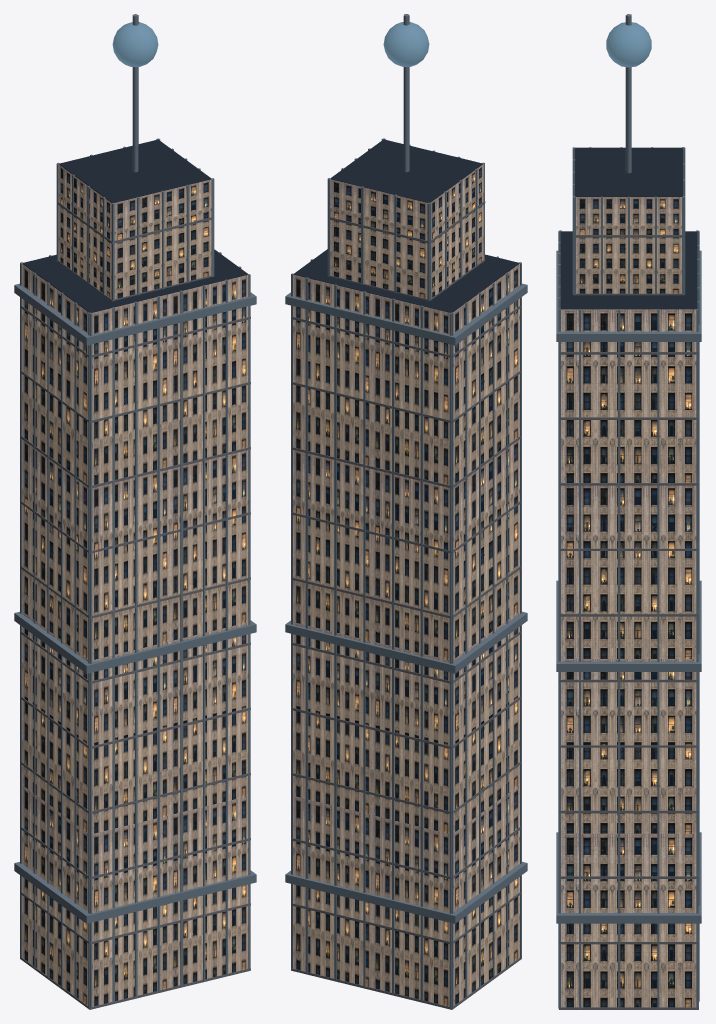
File: one-times-square.glb
3 renders of one model, left to right at view 1: azimuth 30°, elevation 25°; view 2: azimuth 150°, elevation 25°; view 3: azimuth 270°, elevation 25°, orthographic.
Visible parts, largest first — view 1: Facade_atlas_1, Brushed aluminum, Limestone, Roof membrane and mechanical equipment, Cool occupied interiors; view 2: Facade_atlas_1, Brushed aluminum, Limestone, Roof membrane and mechanical equipment, Cool occupied interiors; view 3: Facade_atlas_1, Brushed aluminum, Roof membrane and mechanical equipment, Limestone, Cool occupied interiors.
Part boxes in pixels (x1,y1,x2,y2): Facade_atlas_1: (22, 164, 248, 1006); Brushed aluminum: (14, 14, 256, 1008); Limestone: (20, 202, 250, 1009); Roof membrane and mechanical equipment: (23, 139, 247, 312); Cool occupied interiors: (112, 22, 158, 66); Facade_atlas_1: (293, 164, 519, 1006); Brushed aluminum: (285, 14, 527, 1008); Limestone: (291, 201, 521, 1009); Roof membrane and mechanical equipment: (293, 139, 518, 312); Cool occupied interiors: (383, 22, 429, 66); Facade_atlas_1: (561, 197, 696, 1007); Brushed aluminum: (556, 14, 701, 1008); Roof membrane and mechanical equipment: (560, 147, 697, 309); Limestone: (559, 235, 698, 1009); Cool occupied interiors: (606, 22, 651, 67).
Size of the model in its own units: 2.74 by 14.62 by 2.02.
Materials: 5 (1 with a texture image).
